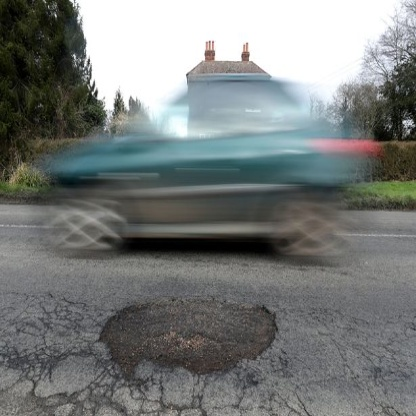pothole: (85, 293, 287, 379)
